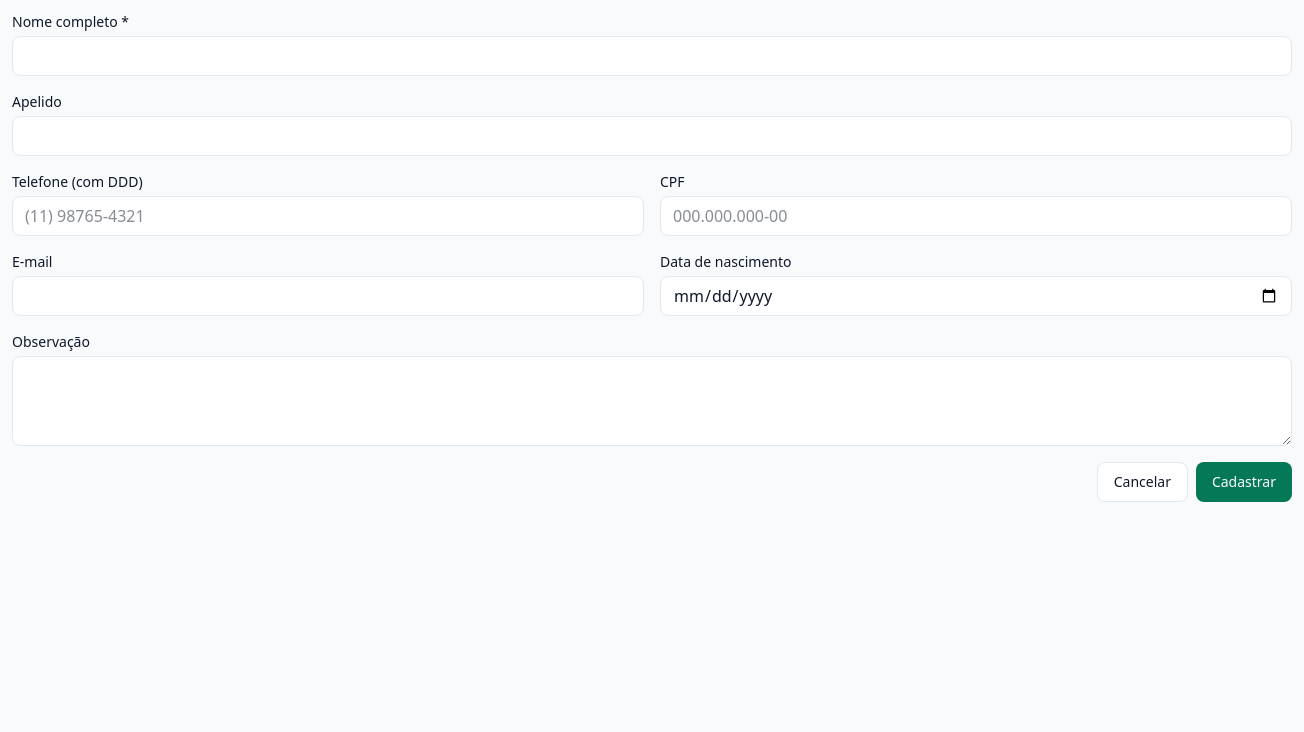
Scenario: PlayerForm › mostra erros em pt-BR e não envia dados inválidos
Type "52998224724" into the field labelled "CPF" at (976, 216), box [660,196,1292,236]
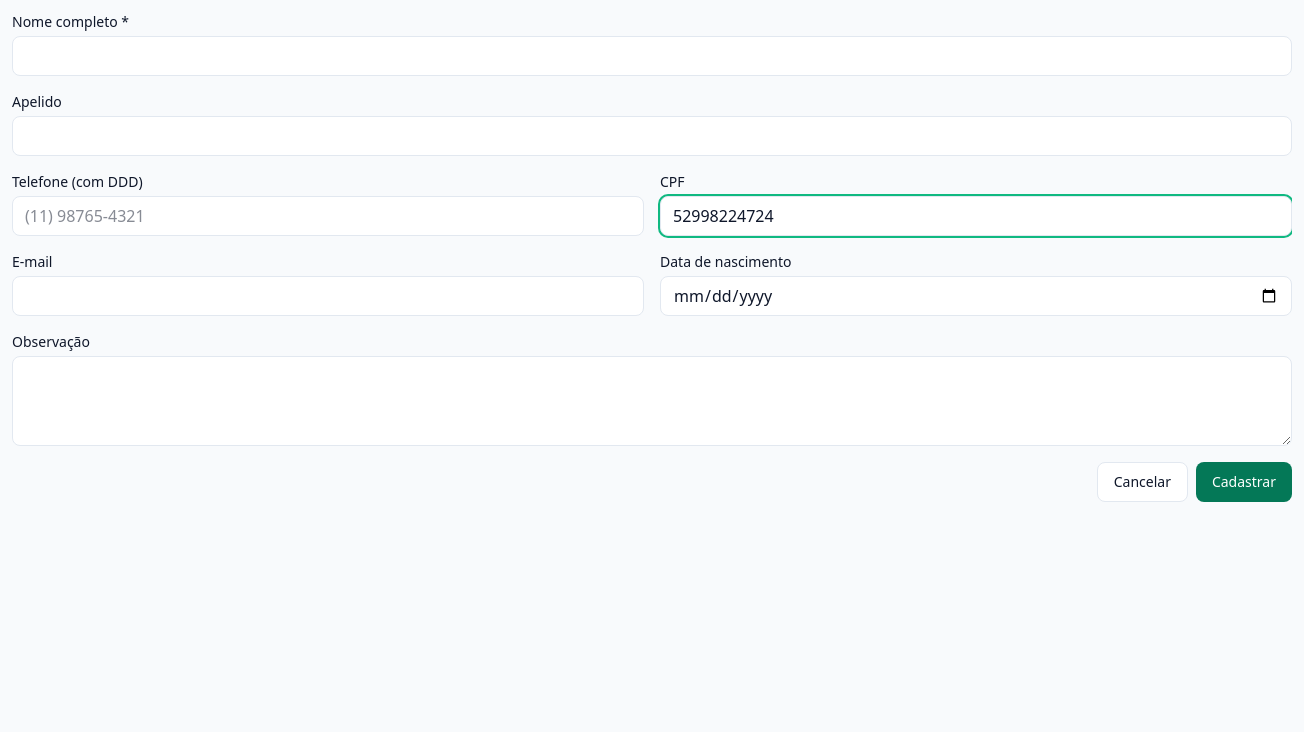
Click the button "Cadastrar" at (1244, 482), box [1196,462,1292,502]
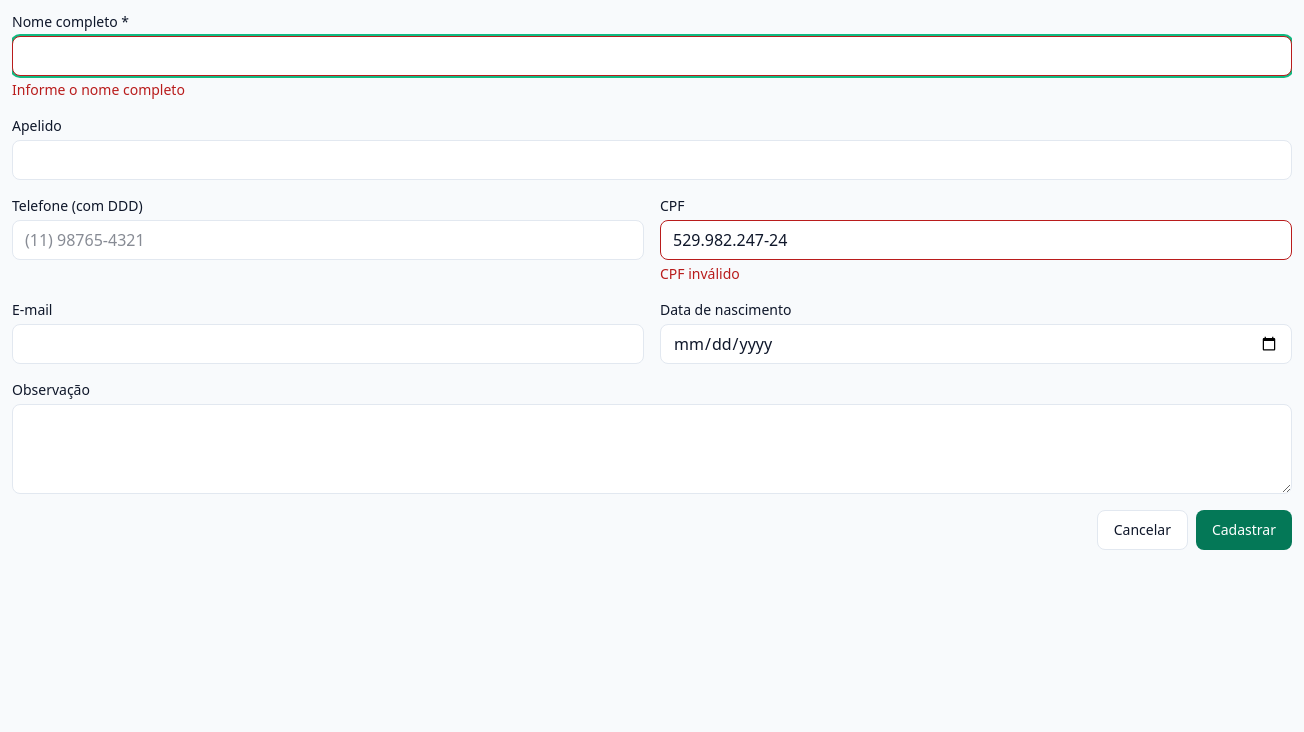
Now the text "Informe o nome completo" is shown, box [12,80,185,99]
Now the text "CPF inválido" is shown, box [660,264,740,283]
